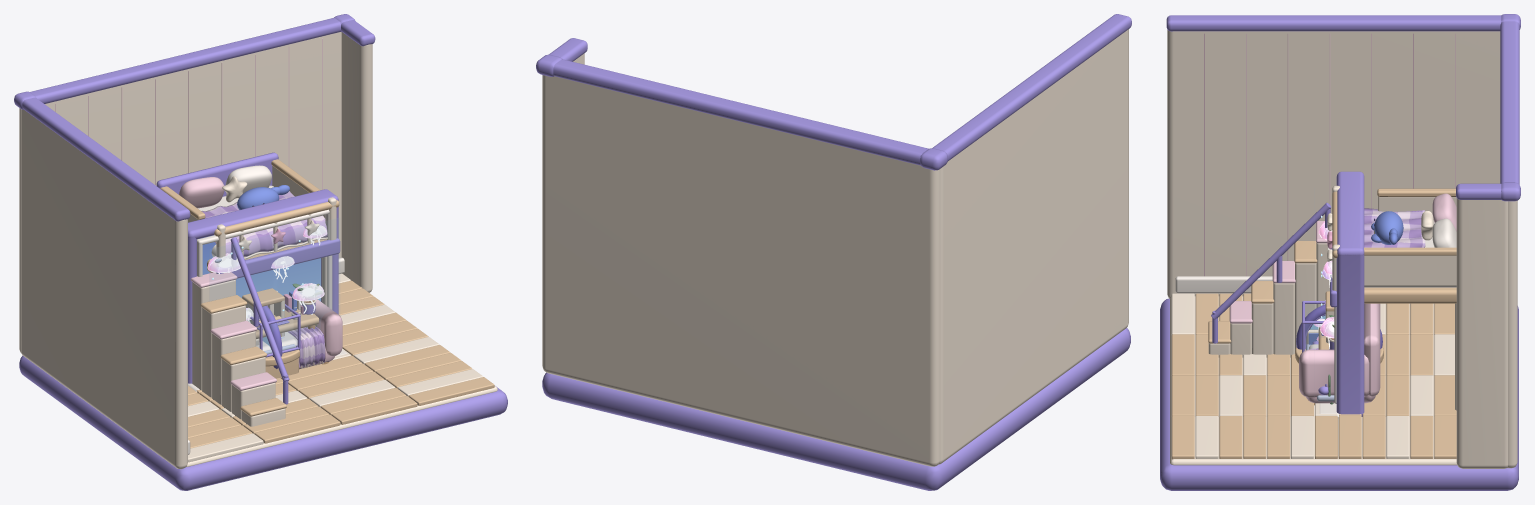
Rendered from kit.glb.
The picture shows the model from 3 angles, left to right: view 1: azimuth 30°, elevation 25°; view 2: azimuth 150°, elevation 25°; view 3: azimuth 270°, elevation 25°; orthographic projection. The views are drawn at different scales.
Parts seen in each view (by area): view 1: shell_cream_left, shell_cream_back, shell_woodLight_floor, shell_lavender_floor, aquarium_Glass • tinted thin surface_, loft_cream_, shell_cream_right, shell_cream_floor, shell_lavender_back, loft_lavender_, aquarium_lavender_, shell_lavender_left (+14 smaller); view 2: shell_cream_back, shell_cream_left, shell_lavender_floor, shell_lavender_back, shell_lavender_left; view 3: shell_cream_left, shell_woodLight_floor, shell_cream_right, shell_cream_floor, shell_lavender_floor, aquarium_lavender_, loft_cream_, shell_lavender_left, loft_side_guards, loft_woodLight_, sofa_blush_, shell_lavender_back (+13 smaller).
Boxes of the visible parts, bbox=[...] form: shell_cream_left: bbox=[21, 109, 187, 469]; shell_cream_back: bbox=[19, 32, 341, 353]; shell_woodLight_floor: bbox=[188, 280, 494, 448]; shell_lavender_floor: bbox=[14, 14, 507, 490]; aquarium_Glass • tinted thin surface_: bbox=[210, 218, 339, 333]; loft_cream_: bbox=[192, 176, 336, 426]; shell_cream_right: bbox=[341, 32, 372, 292]; shell_cream_floor: bbox=[186, 273, 497, 466]; shell_lavender_back: bbox=[30, 18, 340, 103]; loft_lavender_: bbox=[156, 152, 340, 404]; aquarium_lavender_: bbox=[188, 189, 338, 383]; shell_lavender_left: bbox=[22, 97, 190, 221]; shell_cream_back: bbox=[542, 75, 940, 466]; shell_cream_left: bbox=[938, 29, 1128, 464]; shell_lavender_floor: bbox=[536, 54, 1130, 490]; shell_lavender_back: bbox=[553, 59, 928, 165]; shell_lavender_left: bbox=[932, 14, 1131, 161]; shell_cream_left: bbox=[1167, 30, 1500, 298]; shell_woodLight_floor: bbox=[1171, 293, 1456, 459]; shell_cream_right: bbox=[1456, 198, 1507, 468]; shell_cream_floor: bbox=[1170, 293, 1456, 465]; shell_lavender_floor: bbox=[1160, 14, 1520, 490]; aquarium_lavender_: bbox=[1318, 171, 1364, 416]; loft_cream_: bbox=[1208, 185, 1456, 410]; shell_lavender_left: bbox=[1166, 15, 1501, 31]; loft_side_guards: bbox=[1364, 196, 1456, 285]; loft_woodLight_: bbox=[1208, 191, 1456, 343]; sofa_blush_: bbox=[1299, 303, 1380, 403]; shell_lavender_back: bbox=[1500, 21, 1519, 184].
Size of the model in its own units: 6.54 by 5.25 by 5.61.
Materials: 26 (2 with a texture image).
